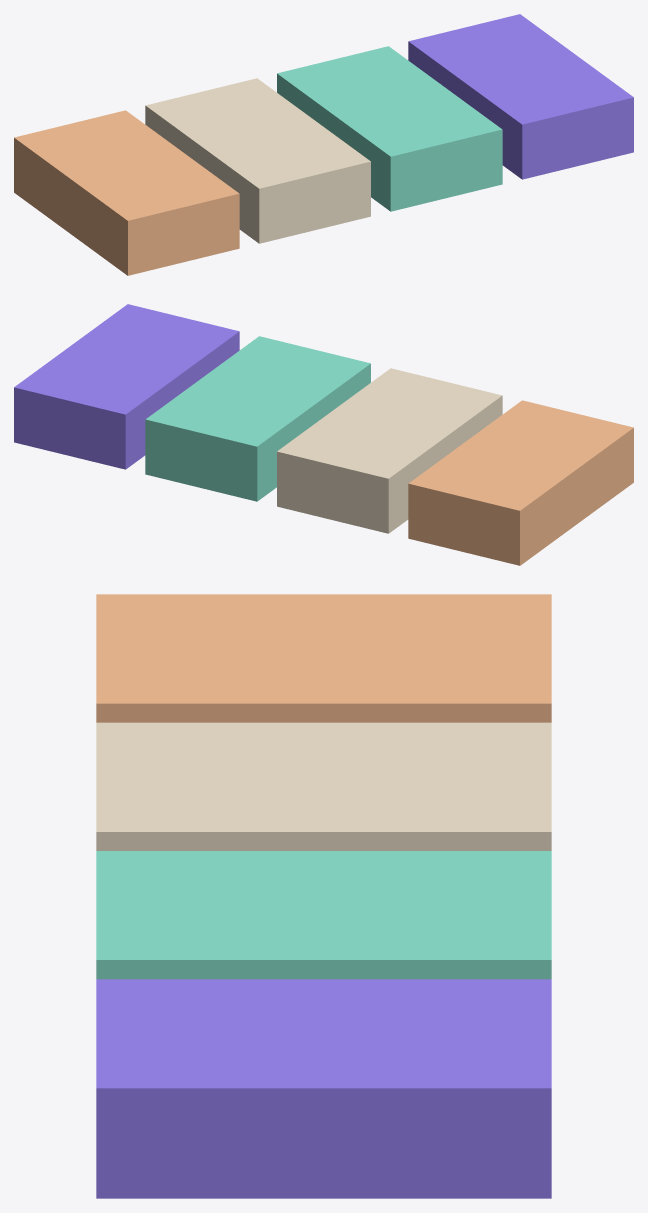
The picture shows the model from 3 angles, top to bottom: view 1: azimuth 30°, elevation 25°; view 2: azimuth 150°, elevation 25°; view 3: azimuth 270°, elevation 25°; orthographic projection. The views are drawn at different scales.
Parts seen in each view (by area): view 1: Material swatch, Material swatch.001, Material swatch.002, Material swatch.003; view 2: Material swatch, Material swatch.001, Material swatch.002, Material swatch.003; view 3: Material swatch.003, Material swatch, Material swatch.001, Material swatch.002.
Part boxes in pixels (<box>): Material swatch: <box>14,110,239,275</box>; Material swatch.001: <box>145,78,370,243</box>; Material swatch.002: <box>277,46,502,211</box>; Material swatch.003: <box>408,14,633,179</box>; Material swatch: <box>408,400,633,565</box>; Material swatch.001: <box>277,368,502,533</box>; Material swatch.002: <box>145,336,370,501</box>; Material swatch.003: <box>14,304,239,469</box>; Material swatch.003: <box>96,979,551,1198</box>; Material swatch: <box>96,594,551,722</box>; Material swatch.001: <box>96,722,551,850</box>; Material swatch.002: <box>96,851,551,979</box>.
Bounding box in the file's own units: 0.385 × 0.04 × 0.15.
Materials: 1 (1 with a texture image).
